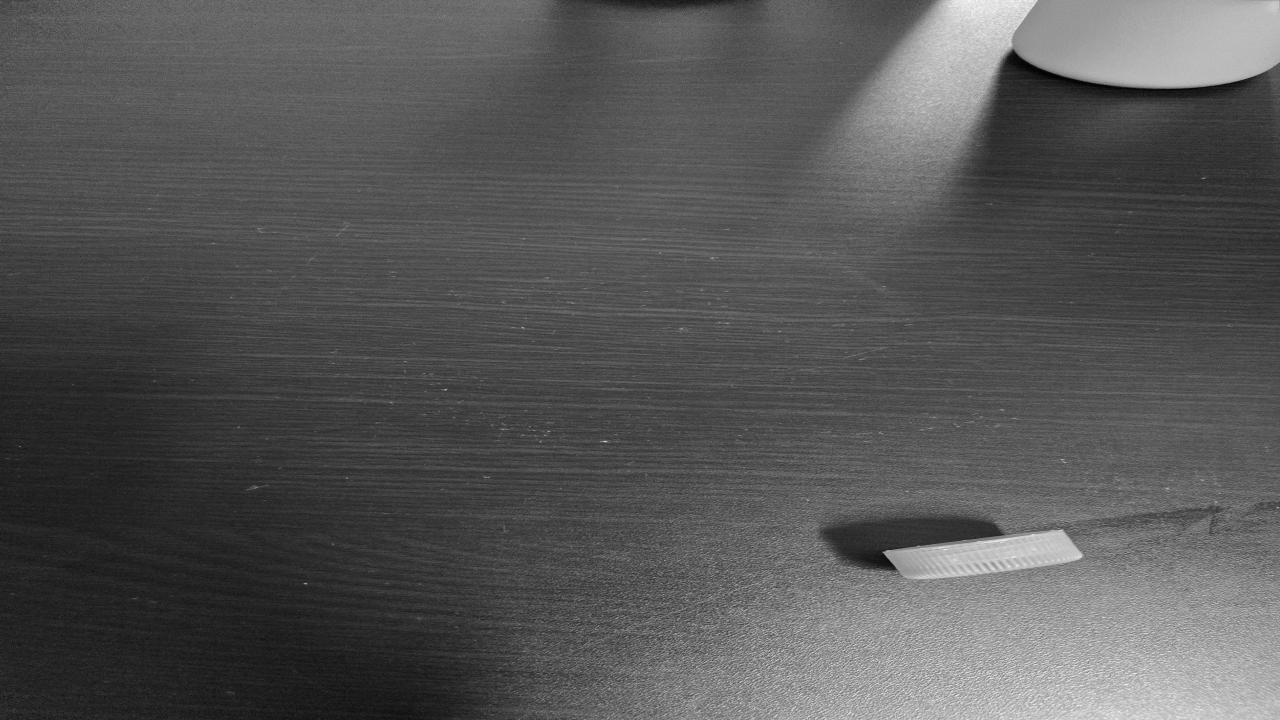bottle_cap: (881, 528, 1086, 580)
